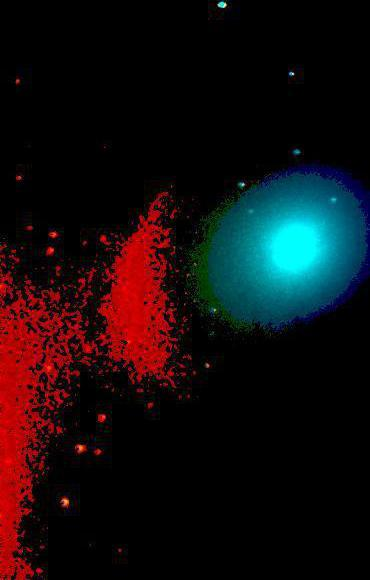star: (240, 178, 270, 208)
